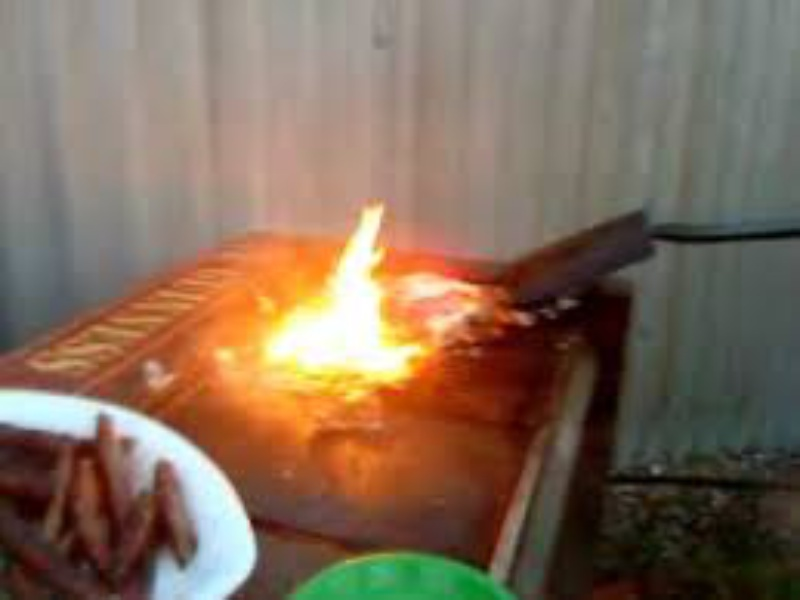fire: (263, 203, 423, 393)
